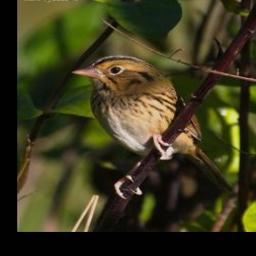Sparrow: (70, 55, 238, 198)
